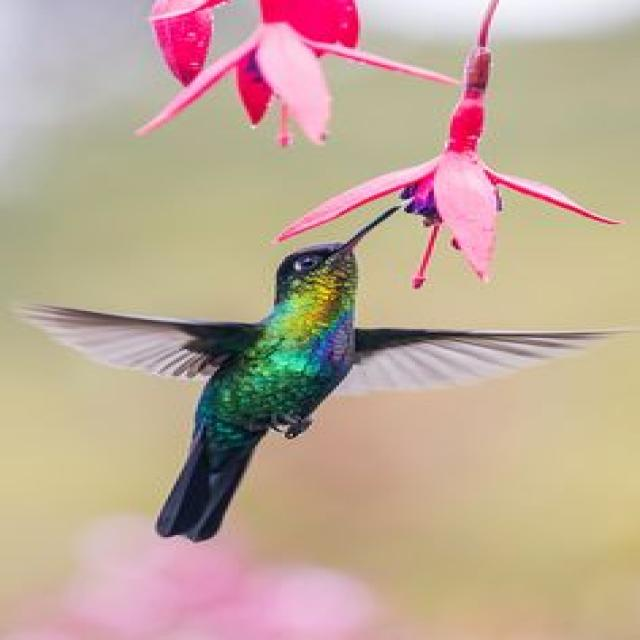Herbivorous: (16, 206, 616, 544)
